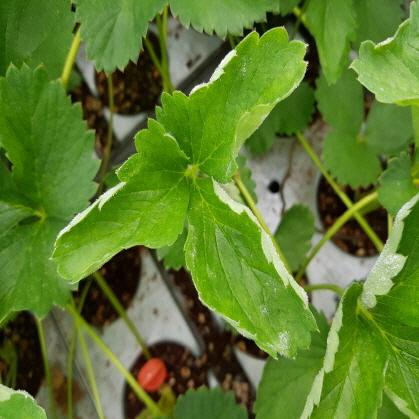Powdery Mildew Leaf: (183, 168, 319, 363), (153, 24, 307, 184), (47, 116, 192, 282), (300, 280, 390, 418), (360, 189, 418, 343), (348, 0, 418, 107)
